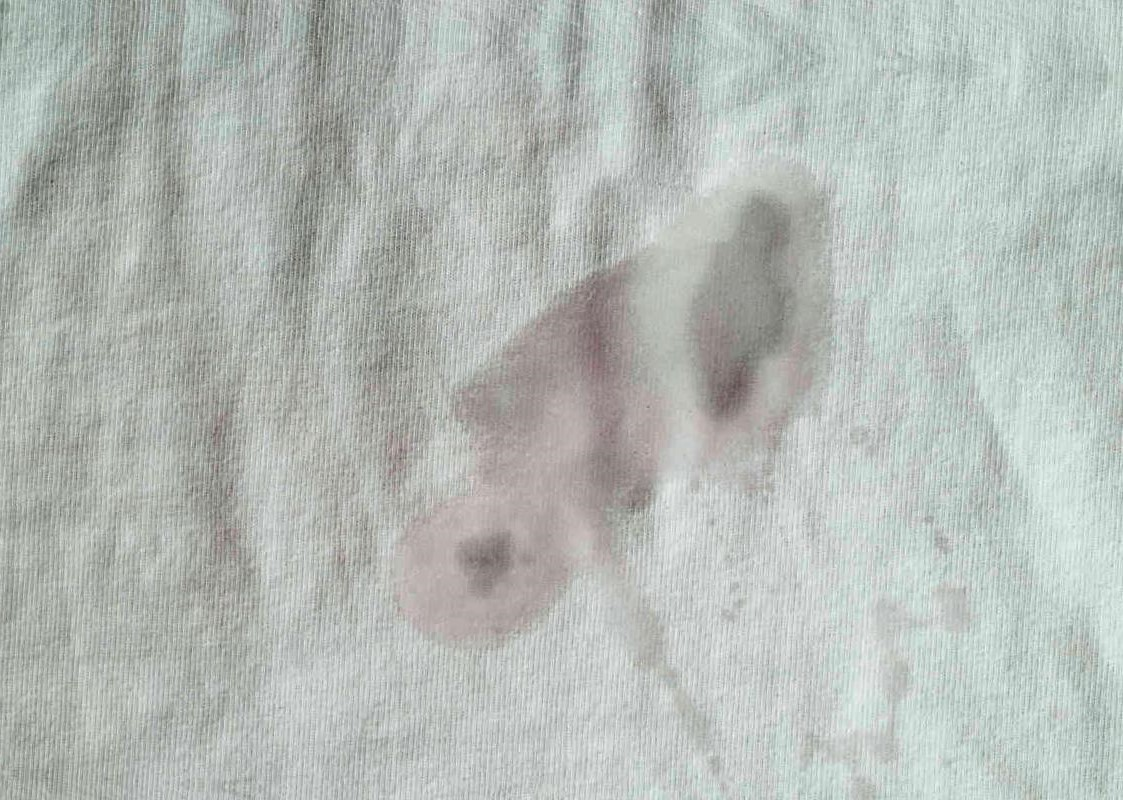stain: (381, 150, 855, 660)
